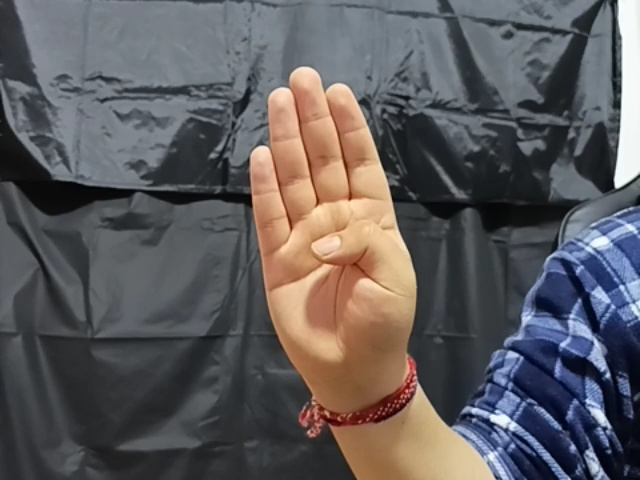B: (240, 65, 418, 367)
